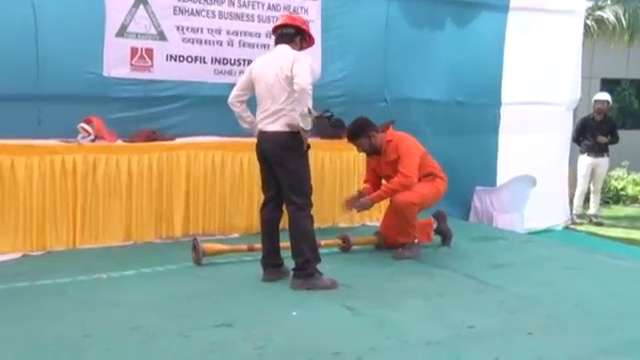helmet: (271, 13, 315, 50), (590, 88, 614, 106)
helmet_off: (346, 115, 384, 157)
helmet_on: (270, 12, 314, 55), (587, 88, 614, 118)
person: (226, 13, 338, 291), (345, 113, 455, 262), (568, 89, 618, 226)
